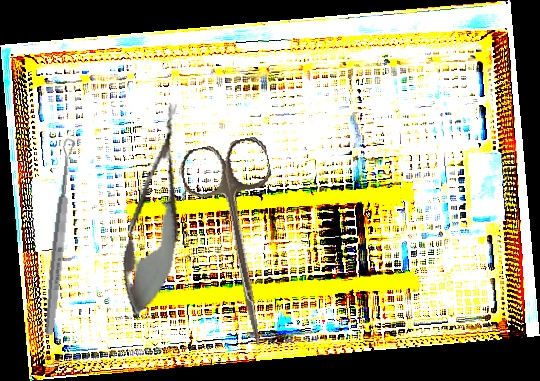Iris Scissors: (177, 134, 306, 354)
Micro Scissor: (111, 99, 200, 324)
Surgical Spoon: (42, 137, 77, 337)
